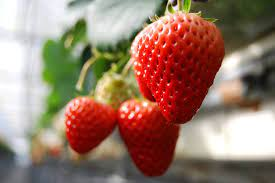ripe: (125, 8, 230, 130), (120, 96, 184, 181), (62, 91, 121, 156)
unripe: (92, 68, 138, 118)
